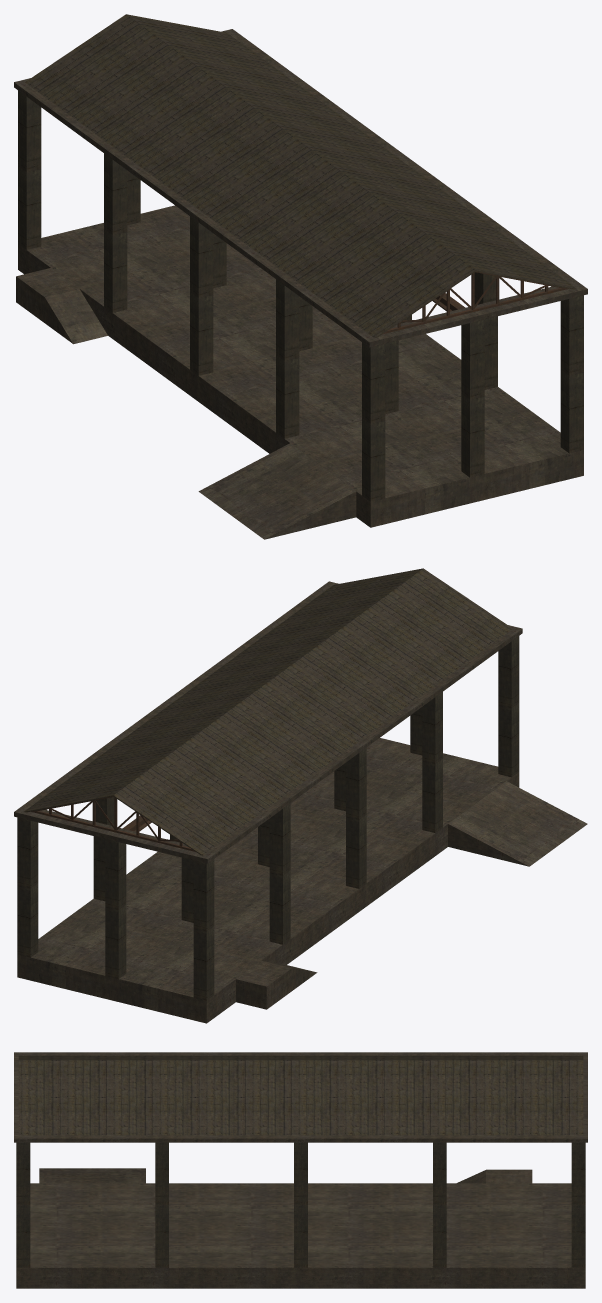
Rendered from warehouse_mx_4_1.glb.
3 views of the same model, one above another, from view 1: azimuth 30°, elevation 25°; view 2: azimuth 150°, elevation 25°; view 3: azimuth 270°, elevation 25° (orthographic). The views are drawn at different scales.
Visible parts, largest first — view 1: warehouse_mx_4_1; view 2: warehouse_mx_4_1; view 3: warehouse_mx_4_1.
Part boxes in pixels (box(x1,y1,x2,y2)): warehouse_mx_4_1: box(14, 14, 587, 539); warehouse_mx_4_1: box(14, 568, 587, 1023); warehouse_mx_4_1: box(14, 1052, 587, 1288).
Size of the model in its own units: 12.4 by 8.87 by 24.8.
4 materials, 4 textured.
